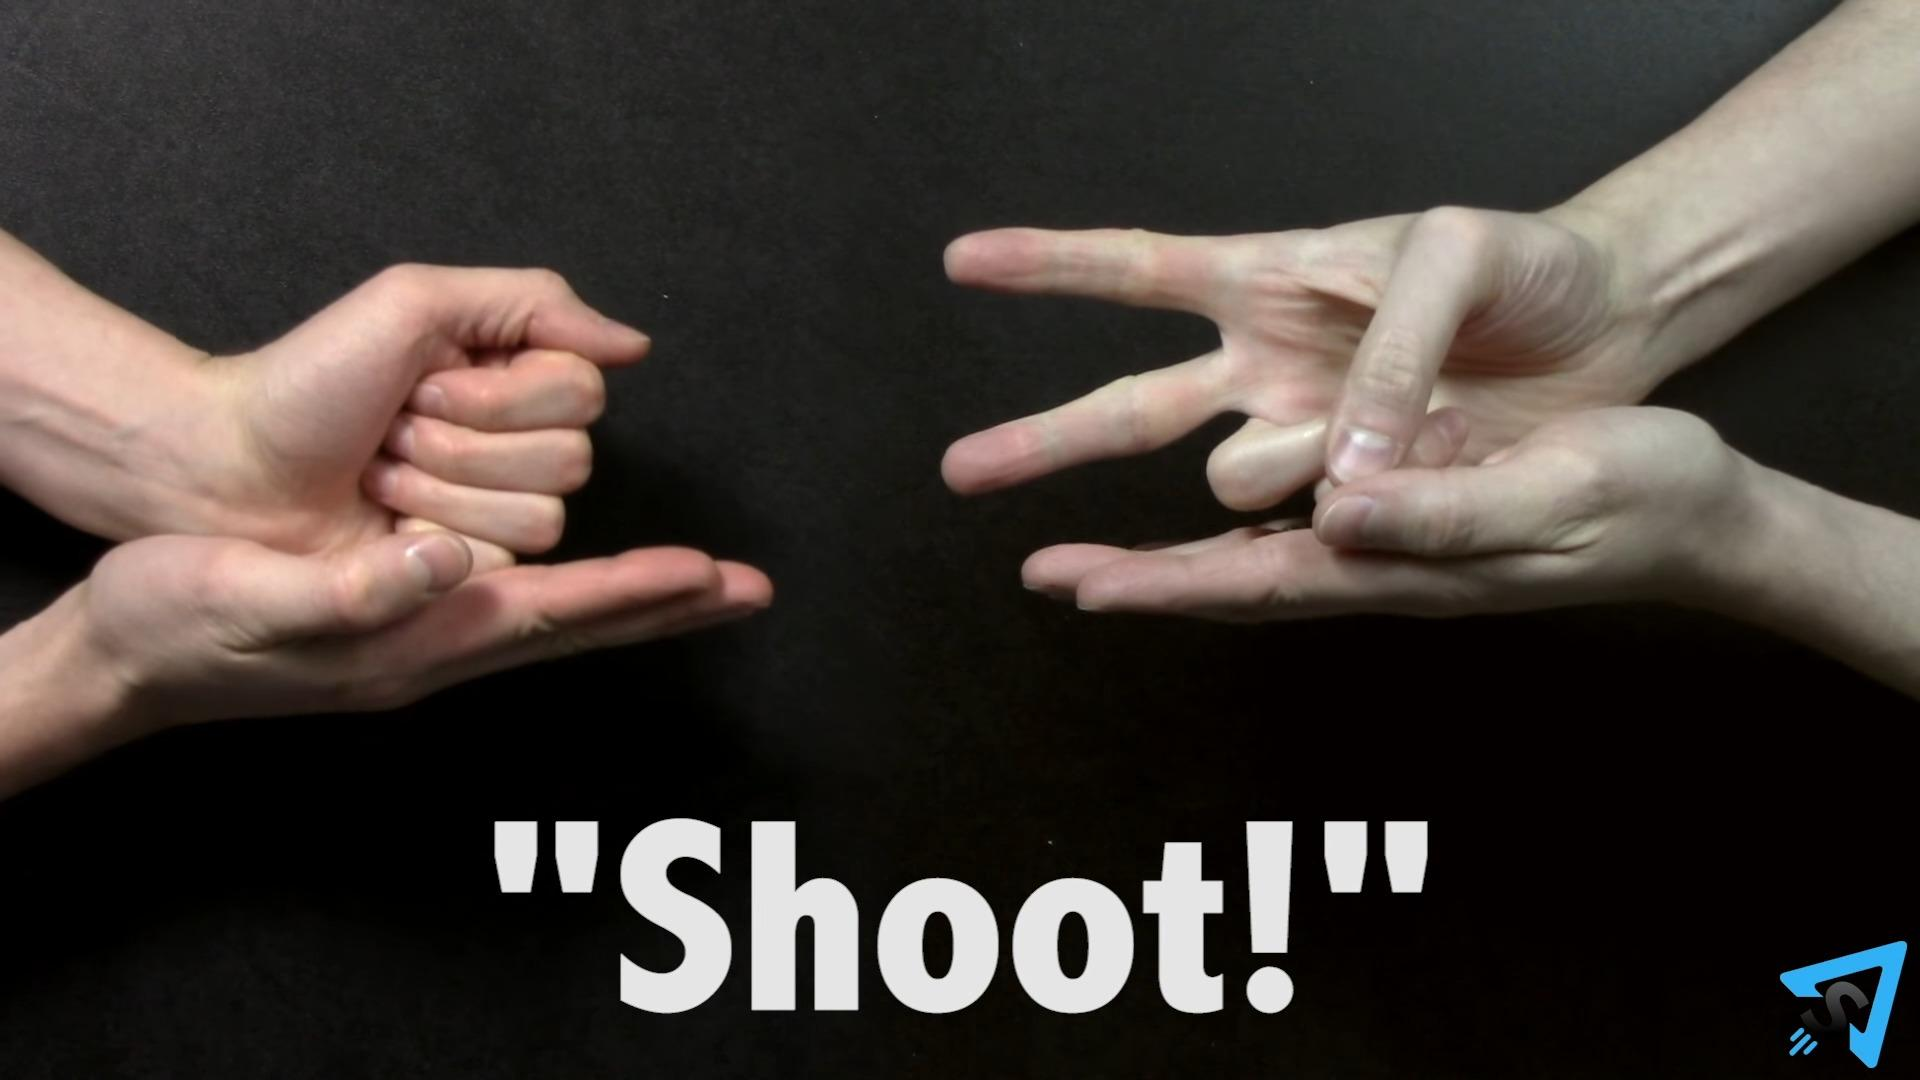Rock: (220, 251, 655, 580)
Scissors: (935, 200, 1664, 496)
